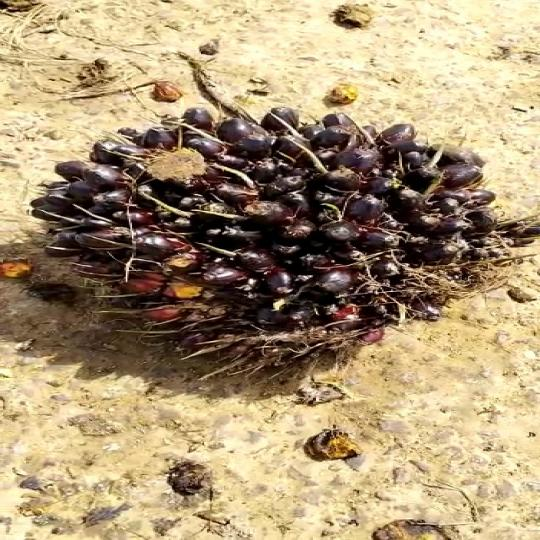mentah: (22, 83, 540, 350)
